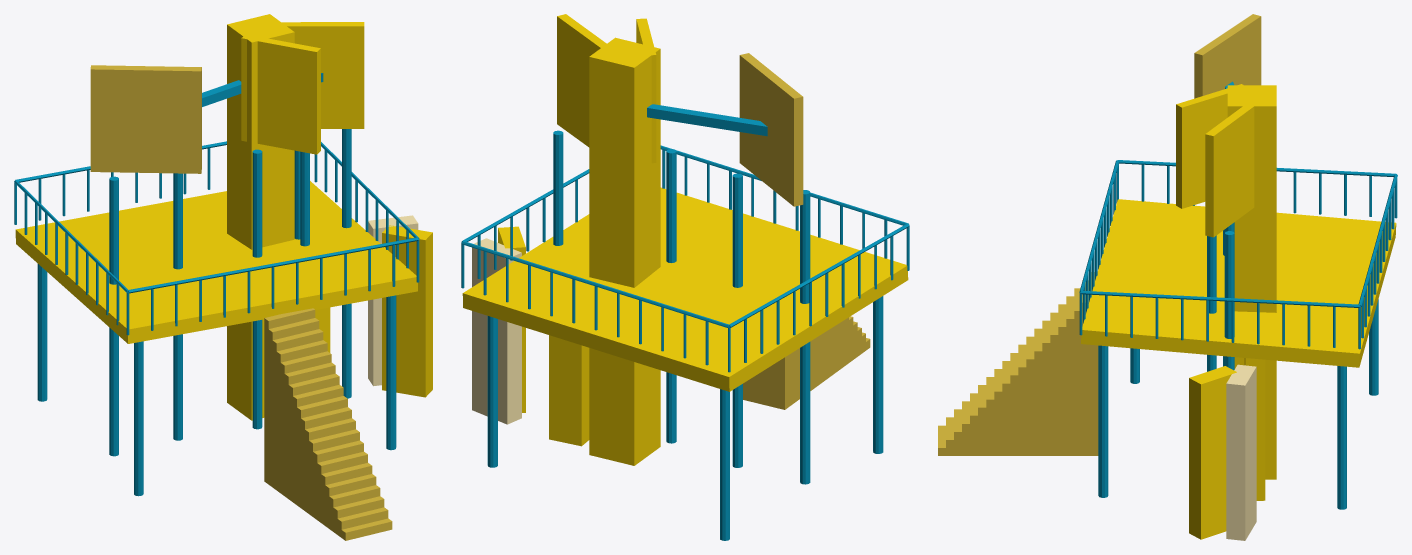
File: folie_tag_125.glb
3 views of the same model, side by side, from view 1: azimuth 30°, elevation 25°; view 2: azimuth 150°, elevation 25°; view 3: azimuth 270°, elevation 25° (orthographic). The views are drawn at different scales.
Parts seen in each view (by area): view 1: folie_tag_125_00_plate, folie_tag_125_line, folie_tag_125_stairs, folie_tag_125_core, folie_tag_125_01_panel, folie_tag_125_06_panel, folie_tag_125_03_fin, folie_tag_125_05_panel, folie_tag_125_02_fin; view 2: folie_tag_125_00_plate, folie_tag_125_line, folie_tag_125_core, folie_tag_125_01_panel, folie_tag_125_02_fin, folie_tag_125_stairs, folie_tag_125_04_fin, folie_tag_125_05_panel, folie_tag_125_06_panel, folie_tag_125_03_fin; view 3: folie_tag_125_00_plate, folie_tag_125_stairs, folie_tag_125_line, folie_tag_125_core, folie_tag_125_03_fin, folie_tag_125_05_panel, folie_tag_125_02_fin, folie_tag_125_06_panel, folie_tag_125_01_panel, folie_tag_125_04_fin.
Part boxes in pixels (<box>): folie_tag_125_00_plate: <box>15,181,417,343</box>; folie_tag_125_line: <box>14,73,419,496</box>; folie_tag_125_stairs: <box>264,308,392,540</box>; folie_tag_125_core: <box>227,14,294,420</box>; folie_tag_125_01_panel: <box>90,65,201,173</box>; folie_tag_125_06_panel: <box>241,34,320,154</box>; folie_tag_125_03_fin: <box>382,225,432,397</box>; folie_tag_125_05_panel: <box>282,22,364,128</box>; folie_tag_125_02_fin: <box>368,215,418,386</box>; folie_tag_125_00_plate: <box>462,187,908,391</box>; folie_tag_125_line: <box>461,104,909,540</box>; folie_tag_125_core: <box>589,37,660,465</box>; folie_tag_125_01_panel: <box>739,53,803,206</box>; folie_tag_125_02_fin: <box>472,238,521,424</box>; folie_tag_125_stairs: <box>743,316,870,409</box>; folie_tag_125_04_fin: <box>549,335,589,446</box>; folie_tag_125_05_panel: <box>557,14,609,147</box>; folie_tag_125_06_panel: <box>636,18,656,163</box>; folie_tag_125_03_fin: <box>498,226,525,412</box>; folie_tag_125_00_plate: <box>1081,199,1396,367</box>; folie_tag_125_stairs: <box>938,272,1098,455</box>; folie_tag_125_line: <box>1079,81,1397,509</box>; folie_tag_125_core: <box>1227,85,1276,479</box>; folie_tag_125_03_fin: <box>1189,366,1236,539</box>; folie_tag_125_05_panel: <box>1205,104,1254,237</box>; folie_tag_125_02_fin: <box>1226,364,1256,540</box>; folie_tag_125_06_panel: <box>1176,84,1246,208</box>; folie_tag_125_01_panel: <box>1194,14,1261,98</box>; folie_tag_125_04_fin: <box>1244,358,1265,500</box>.
Bounding box in the file's own units: 8.99 × 9.26 × 10.33.
